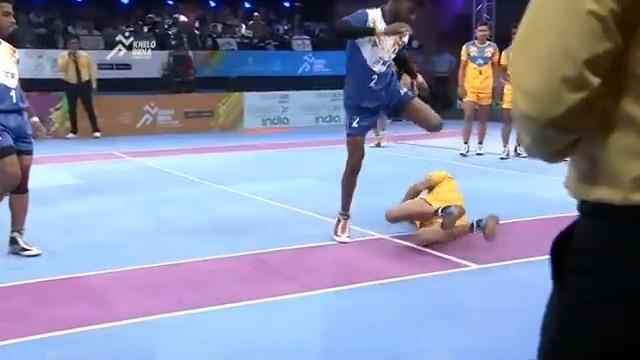Player: (1, 126, 579, 347), (329, 0, 444, 244), (0, 0, 47, 257)
Raider: (394, 146, 479, 269)
referee: (509, 0, 639, 358), (55, 33, 102, 139)
